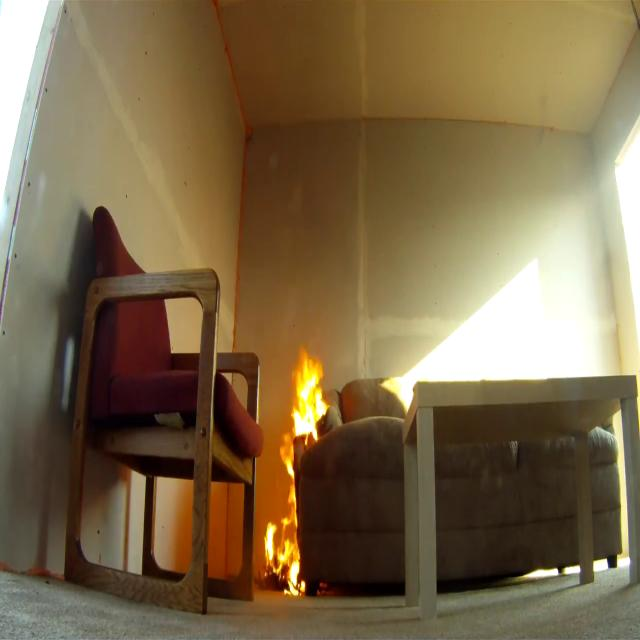fire: (262, 348, 330, 604)
